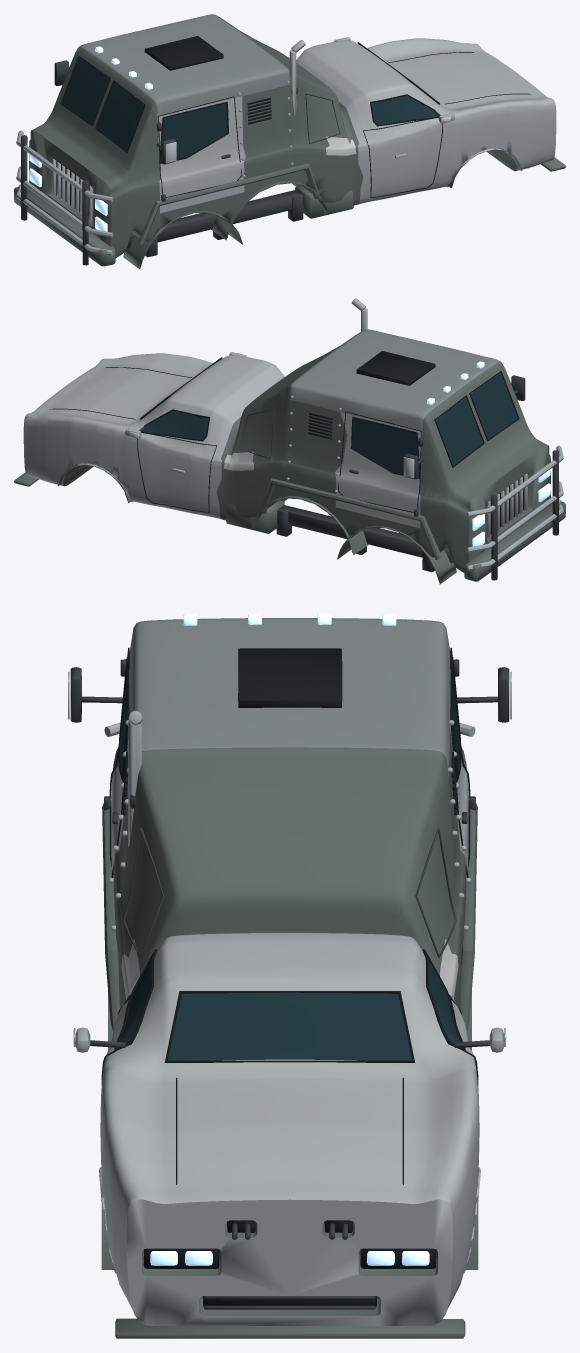
Rendered from blackjack_refined_lod1.glb.
3 views of the same model, one above another, from view 1: azimuth 30°, elevation 25°; view 2: azimuth 150°, elevation 25°; view 3: azimuth 270°, elevation 25° (orthographic). The views are drawn at different scales.
Parts seen in each view (by area): view 1: Body_TracedShell.002, Glass_ArmoredSide_1.002, Chassis_RuggedRail_1.002, Glass_ArmoredWindshield_1.002, Glass_ArmoredWindshield_-1.002, Armor_RuggedBumper.002, Grille_RuggedRoofVent.002, Armor_BogieFender_1.002, Glass_InterceptorSide_1.002, Armor_CenterEquipment_1.002, InnerFender_Liner_1_-0.003, InnerFender_Liner_1_-0.004 (+10 smaller); view 2: Body_TracedShell.002, Glass_ArmoredSide_-1.002, Chassis_RuggedRail_-1.002, Glass_ArmoredWindshield_-1.002, Glass_ArmoredWindshield_1.002, Armor_RuggedBumper.002, Grille_RuggedRoofVent.002, Armor_BogieFender_-1.002, Glass_InterceptorSide_-1.002, Armor_CenterEquipment_-1.002, InnerFender_Liner_-1_-0.003, BrushGuardBar_0.002 (+9 smaller); view 3: Body_TracedShell.002, Glass_InterceptorWindshield.002, Grille_RuggedRoofVent.002, Armor_InterceptorAirDam.002, Armor_BogieFender_-1.002, Armor_BogieFender_1.002, Rubber_InterceptorWindshieldSeal.002, Grille_InterceptorBacking.002, Exhaust_Stack.002, Glass_InterceptorSide_1.002, Glass_InterceptorSide_-1.002.
Boxes of the visible parts, bbox=[...] form: Body_TracedShell.002: bbox=[29, 14, 556, 257]; Glass_ArmoredSide_1.002: bbox=[160, 103, 227, 162]; Chassis_RuggedRail_1.002: bbox=[127, 190, 296, 248]; Glass_ArmoredWindshield_1.002: bbox=[96, 82, 143, 152]; Glass_ArmoredWindshield_-1.002: bbox=[61, 58, 109, 126]; Armor_RuggedBumper.002: bbox=[14, 186, 115, 266]; Grille_RuggedRoofVent.002: bbox=[144, 36, 223, 70]; Armor_BogieFender_1.002: bbox=[138, 163, 319, 244]; Glass_InterceptorSide_1.002: bbox=[371, 95, 437, 124]; Armor_CenterEquipment_1.002: bbox=[295, 185, 353, 218]; InnerFender_Liner_1_-0.003: bbox=[123, 211, 242, 269]; InnerFender_Liner_1_-0.004: bbox=[211, 181, 328, 240]; Body_TracedShell.002: bbox=[23, 329, 550, 572]; Glass_ArmoredSide_-1.002: bbox=[352, 418, 419, 477]; Chassis_RuggedRail_-1.002: bbox=[283, 505, 452, 563]; Glass_ArmoredWindshield_-1.002: bbox=[436, 397, 483, 467]; Glass_ArmoredWindshield_1.002: bbox=[471, 373, 518, 441]; Armor_RuggedBumper.002: bbox=[464, 501, 565, 581]; Grille_RuggedRoofVent.002: bbox=[356, 351, 435, 385]; Armor_BogieFender_-1.002: bbox=[260, 478, 441, 559]; Glass_InterceptorSide_-1.002: bbox=[142, 410, 208, 439]; Armor_CenterEquipment_-1.002: bbox=[226, 500, 284, 533]; InnerFender_Liner_-1_-0.003: bbox=[337, 526, 456, 584]; BrushGuardBar_0.002: bbox=[466, 445, 563, 517]; Body_TracedShell.002: bbox=[100, 618, 479, 1325]; Glass_InterceptorWindshield.002: bbox=[167, 992, 412, 1060]; Grille_RuggedRoofVent.002: bbox=[238, 648, 342, 707]; Armor_InterceptorAirDam.002: bbox=[115, 1318, 465, 1338]; Armor_BogieFender_-1.002: bbox=[460, 801, 477, 1031]; Armor_BogieFender_1.002: bbox=[102, 801, 119, 1030]; Rubber_InterceptorWindshieldSeal.002: bbox=[164, 991, 415, 1062]; Grille_InterceptorBacking.002: bbox=[203, 1296, 376, 1307]; Exhaust_Stack.002: bbox=[128, 720, 142, 846]; Glass_InterceptorSide_1.002: bbox=[119, 960, 151, 1043]; Glass_InterceptorSide_-1.002: bbox=[428, 960, 460, 1043].
Bounding box in the file's own units: 2.19 × 0.8343 × 0.8935.
